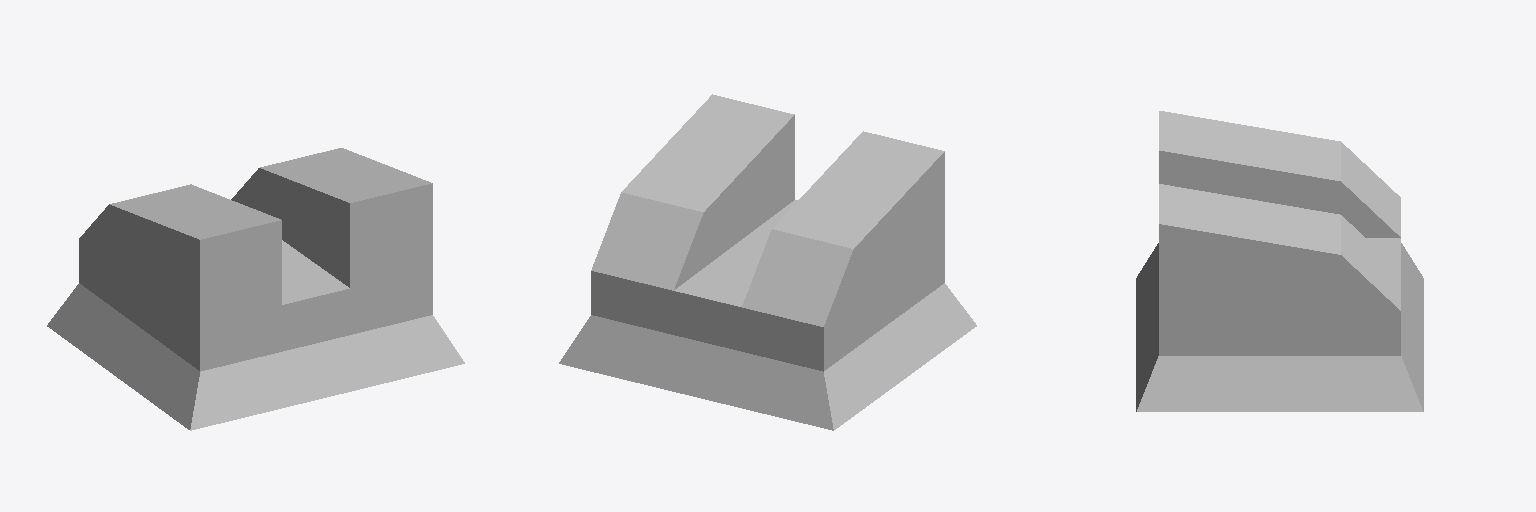
File: turret_body.obj
3 renders of one model, left to right at view 1: azimuth 30°, elevation 25°; view 2: azimuth 150°, elevation 25°; view 3: azimuth 270°, elevation 25°, orthographic.
Parts seen in each view (by area): view 1: Cube_Cube.001; view 2: Cube_Cube.001; view 3: Cube_Cube.001.
Part boxes in pixels (x1,y1,x2,y2): Cube_Cube.001: (47,148,464,430); Cube_Cube.001: (559,94,976,430); Cube_Cube.001: (1136,111,1423,411).
Bounding box in the file's own units: 0.3814 × 0.2351 × 0.3444.